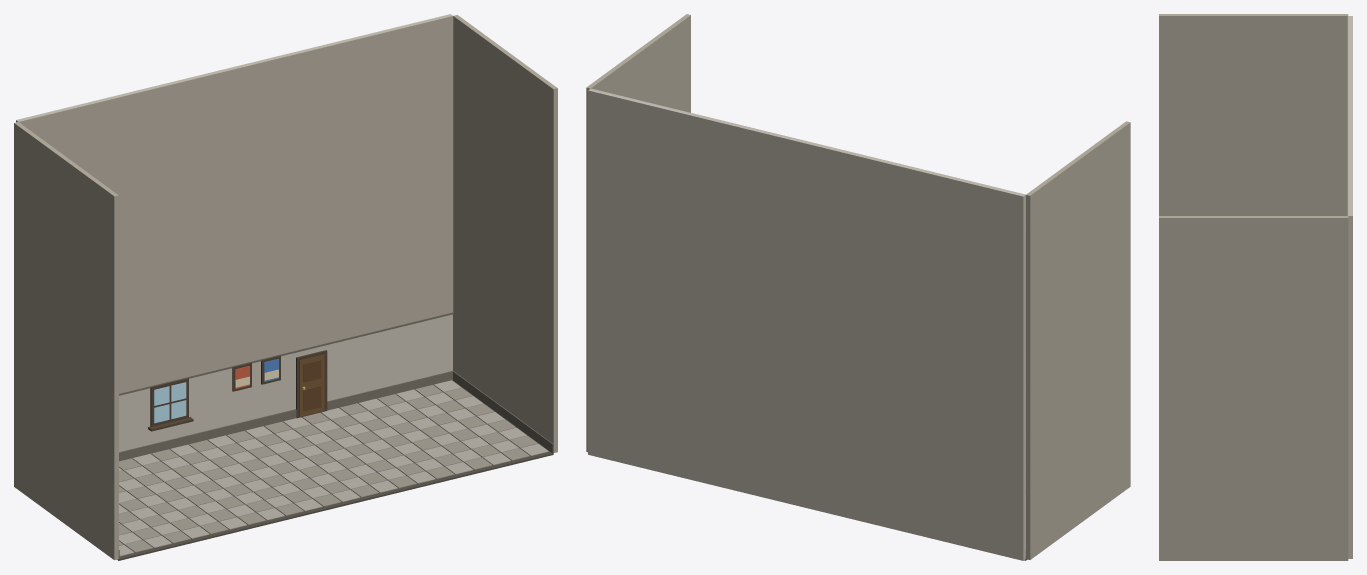
File: room_stone.glb
3 views of the same model, side by side, from view 1: azimuth 30°, elevation 25°; view 2: azimuth 150°, elevation 25°; view 3: azimuth 270°, elevation 25° (orthographic). The views are drawn at different scales.
Parts seen in each view (by area): view 1: room; view 2: room; view 3: room.
Part boxes in pixels (x1=…): room: x1=14, y1=14, x2=557, y2=560; room: x1=586, y1=14, x2=1130, y2=560; room: x1=1159, y1=14, x2=1352, y2=560.
Size of the model in its own units: 30.6 by 24.11 by 12.3.
